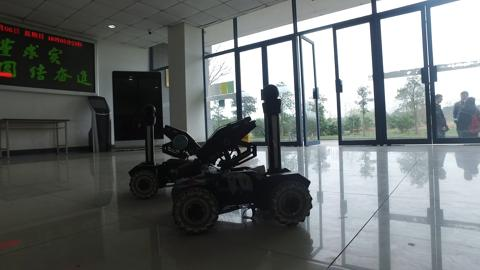chariot: (183, 82, 313, 233), (124, 102, 203, 199)
